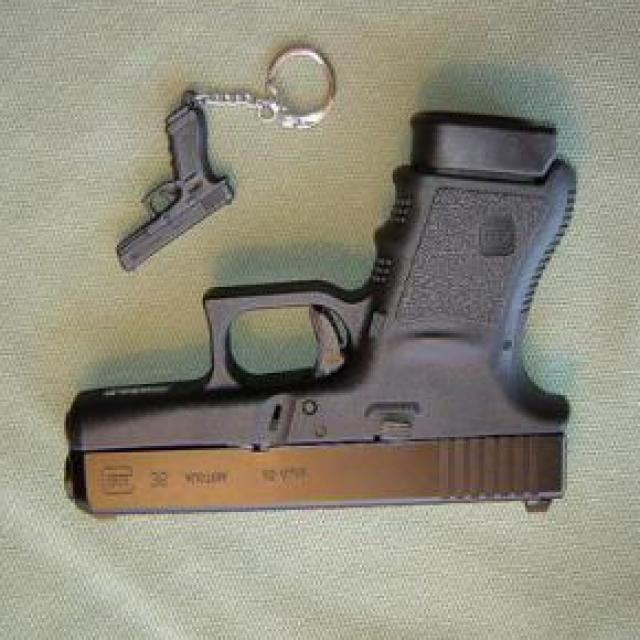pistol: (59, 107, 582, 525), (115, 90, 233, 274)
